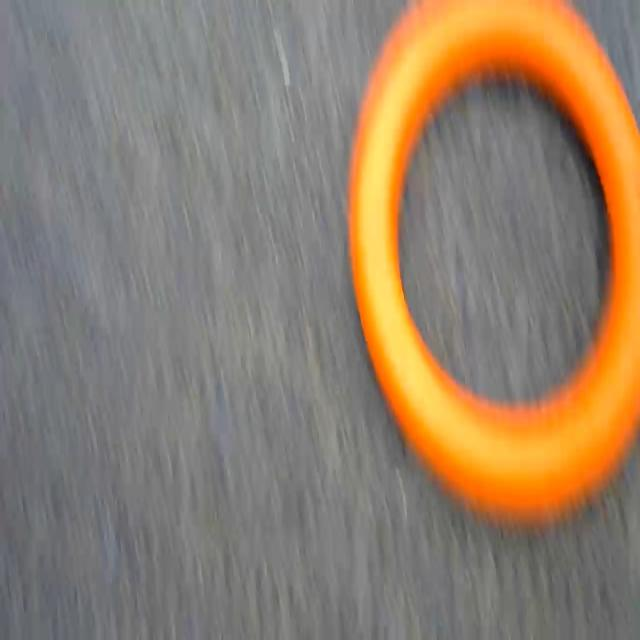note: (345, 0, 640, 564)
